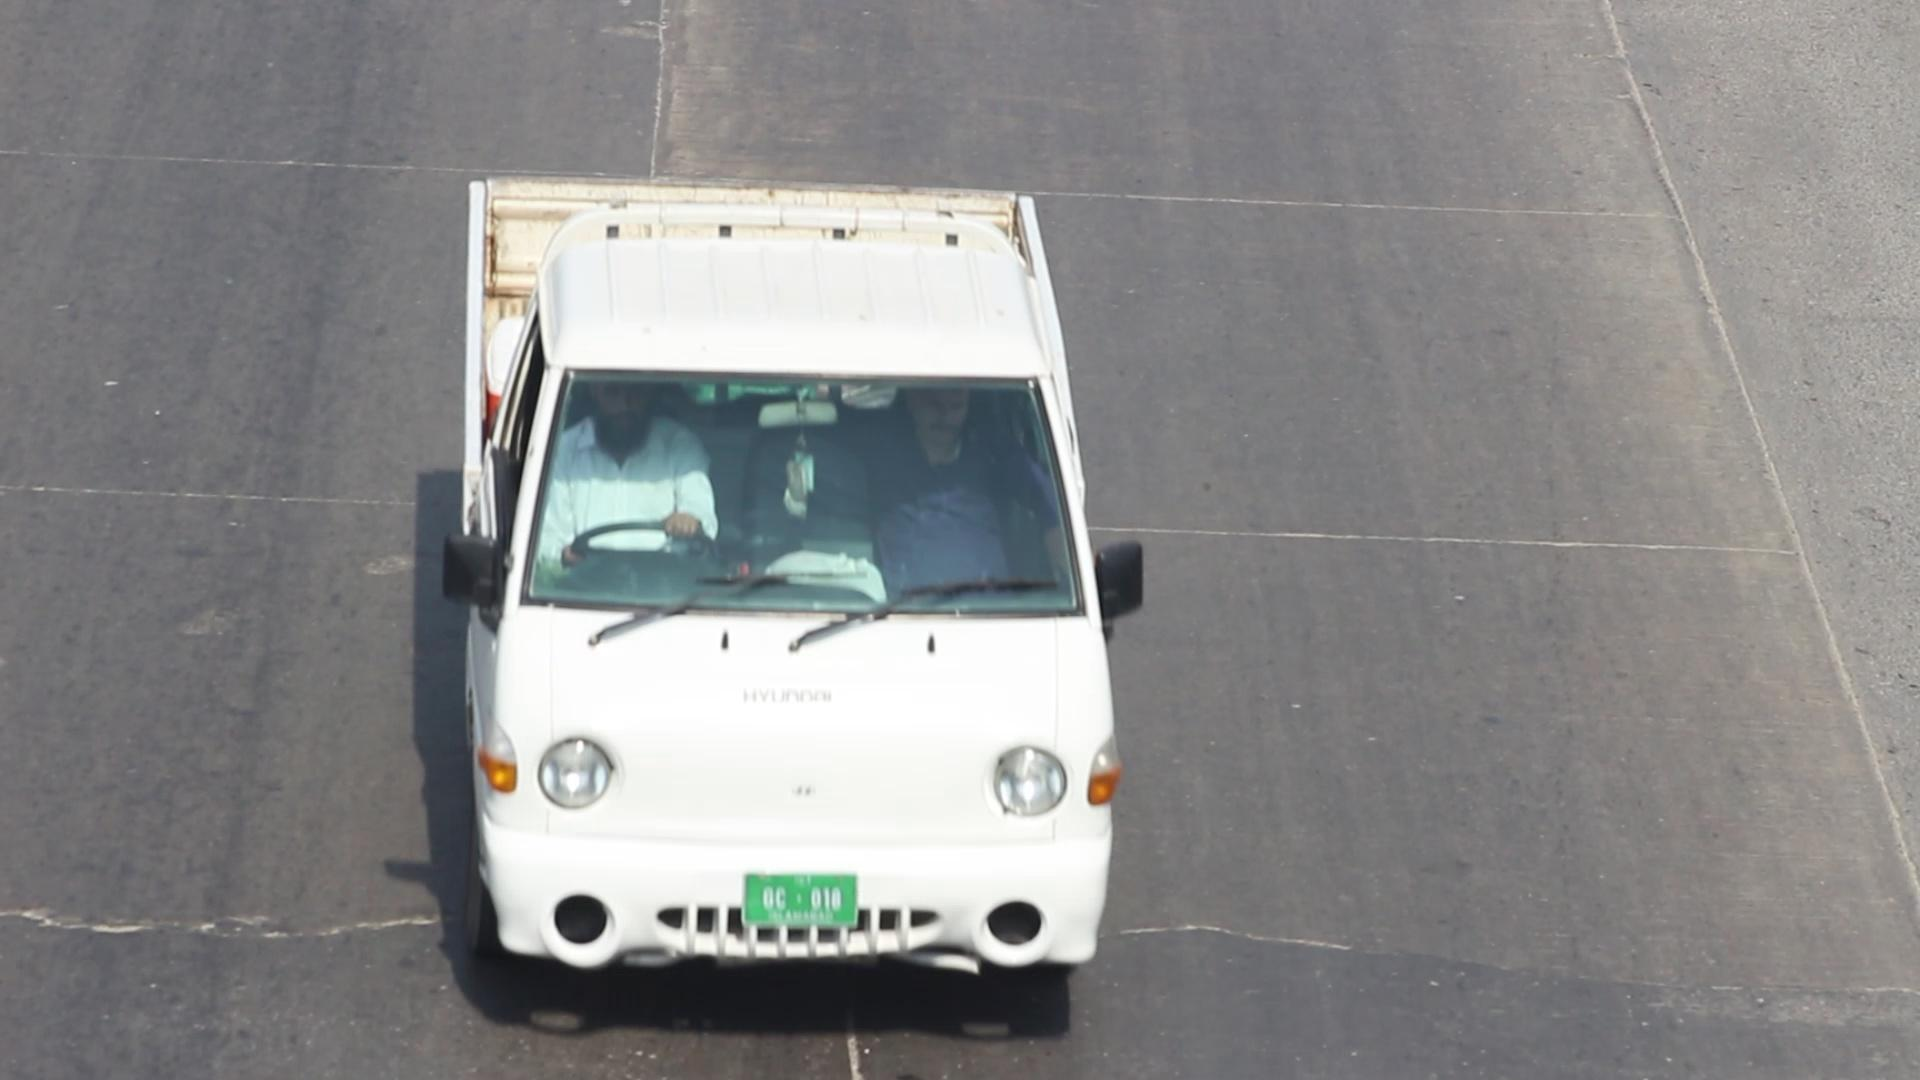windshield: (514, 343, 1108, 626)
